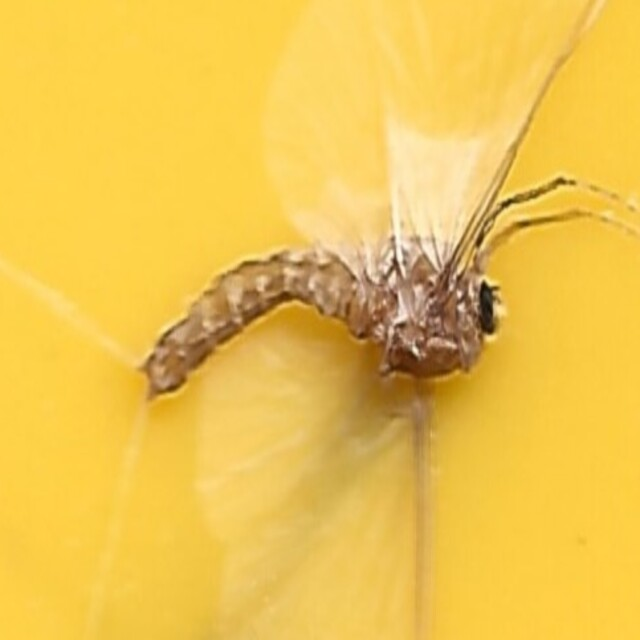Ephemeroptera: (133, 231, 507, 409)
